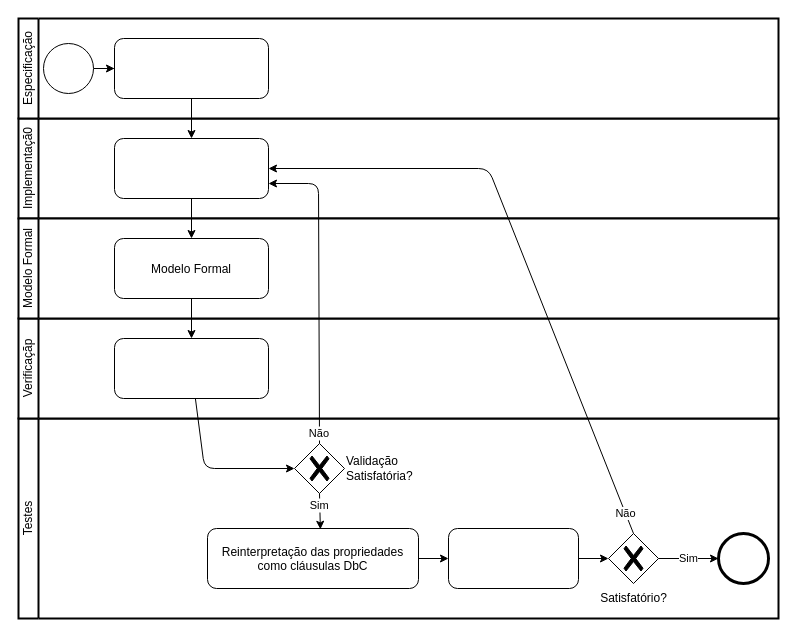
This 796x636 diagram has some shape labels left out. The shapes that lost their labels are listed below. From the top down, each one's centre as x and y in pixels, then its label:
At point (191, 68): "Definição em Alto Nível (diagrama do fluxo)".
At point (191, 168): "Código/API (codificação em Promela)".
At point (191, 368): "Validação (Propriedades LTL)".
At point (513, 558): "Cláusulas DbC".
